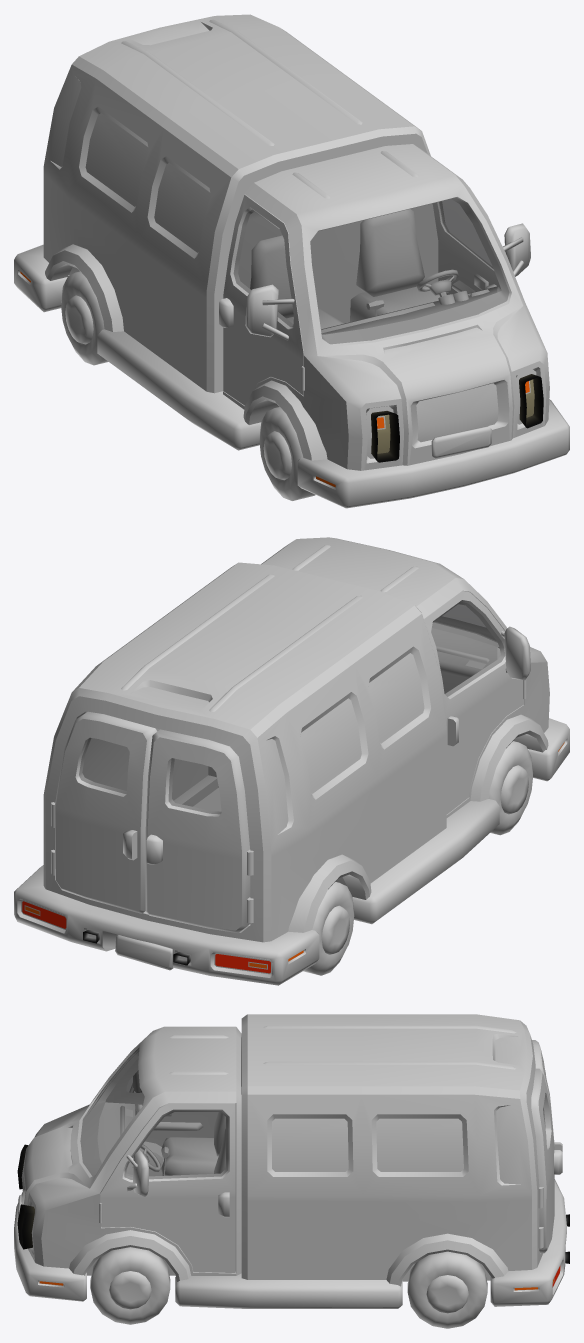
Rendered from TP_Van_01B.fbx.
3 renders of one model, top to bottom at view 1: azimuth 30°, elevation 25°; view 2: azimuth 150°, elevation 25°; view 3: azimuth 270°, elevation 25°, orthographic. The views are drawn at different scales.
Visible parts, largest first — view 1: TP_Van_01B_Body, TP_Van_01B_Door_F.R, TP_Van_01B_Door_F.L, TP_Van_01B_Wheel_F.R, TP_Van_01B_Wheel_R.R, TP_Van_01B_Headlights, TP_Van_01B_Steering_Wheel; view 2: TP_Van_01B_Body, TP_Van_01B_Door_R.R, TP_Van_01B_Door_R.L, TP_Van_01B_Door_F.R, TP_Van_01B_Wheel_F.R, TP_Van_01B_Wheel_R.R, TP_Van_01B_Taillights; view 3: TP_Van_01B_Body, TP_Van_01B_Door_F.L, TP_Van_01B_Wheel_F.L, TP_Van_01B_Wheel_R.L, TP_Van_01B_Door_R.L, TP_Van_01B_Door_F.R, TP_Van_01B_Headlights, TP_Van_01B_Door_R.R.
Boxes of the visible parts, x1,y1,x2,y2 form: TP_Van_01B_Body: (14, 14, 569, 508); TP_Van_01B_Door_F.R: (219, 194, 304, 405); TP_Van_01B_Door_F.L: (432, 199, 530, 294); TP_Van_01B_Wheel_F.R: (259, 407, 315, 500); TP_Van_01B_Wheel_R.R: (61, 271, 108, 365); TP_Van_01B_Headlights: (371, 374, 543, 462); TP_Van_01B_Steering_Wheel: (417, 269, 458, 296); TP_Van_01B_Body: (14, 537, 569, 985); TP_Van_01B_Door_R.R: (145, 729, 253, 932); TP_Van_01B_Door_R.L: (51, 711, 157, 913); TP_Van_01B_Door_F.R: (424, 590, 530, 814); TP_Van_01B_Wheel_F.R: (488, 741, 533, 835); TP_Van_01B_Wheel_R.R: (303, 882, 354, 975); TP_Van_01B_Taillights: (22, 901, 270, 973); TP_Van_01B_Body: (14, 1014, 566, 1308); TP_Van_01B_Door_F.L: (99, 1103, 235, 1272); TP_Van_01B_Wheel_F.L: (90, 1247, 170, 1324); TP_Van_01B_Wheel_R.L: (407, 1251, 487, 1328); TP_Van_01B_Door_R.L: (531, 1068, 562, 1253); TP_Van_01B_Door_F.R: (105, 1058, 218, 1146); TP_Van_01B_Headlights: (17, 1144, 34, 1249); TP_Van_01B_Door_R.R: (532, 1040, 562, 1151).
Size of the model in its own units: 2.47 by 2.33 by 5.
